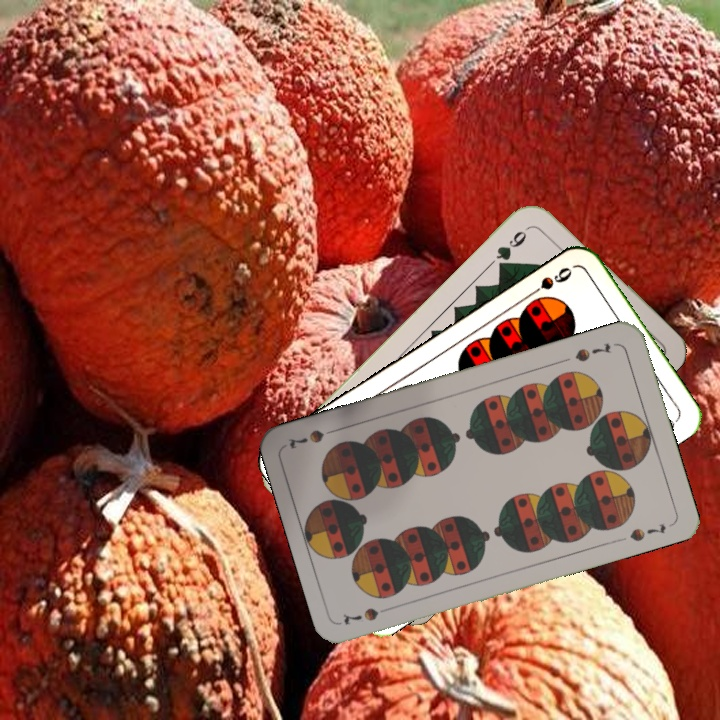G9: (492, 221, 534, 273)
S7: (338, 602, 396, 628), (571, 339, 614, 365)
S9: (523, 262, 575, 300)
